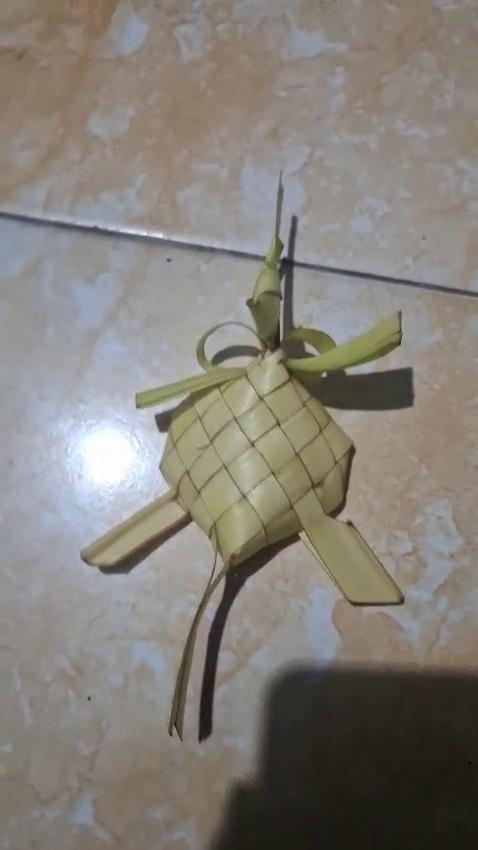Tipat Dampulan: (80, 173, 411, 755)
